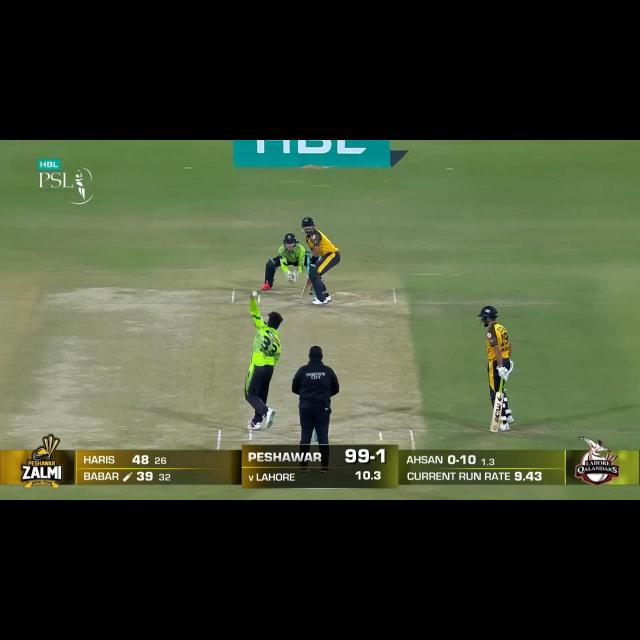bat: (491, 392, 504, 434), (301, 276, 313, 302)
toe: (487, 426, 499, 434), (299, 295, 310, 302)
